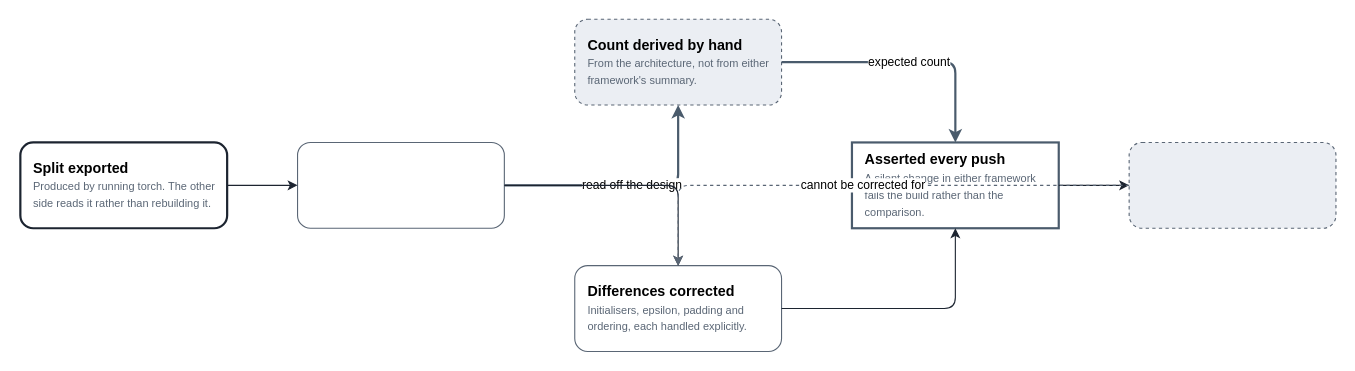
Some shapes in this 1355 by 371 pixel diagram are drawn without their labels. The shapes that lost their labels are listed below. From the top down, each one's centre as x and y in pixels, then its label:
point 400,184: Architecture translated Rebuilt layer for layer in the second framework.
point 1232,184: The irreducible one Kernel reduction order. Not a defect, and not removable.
